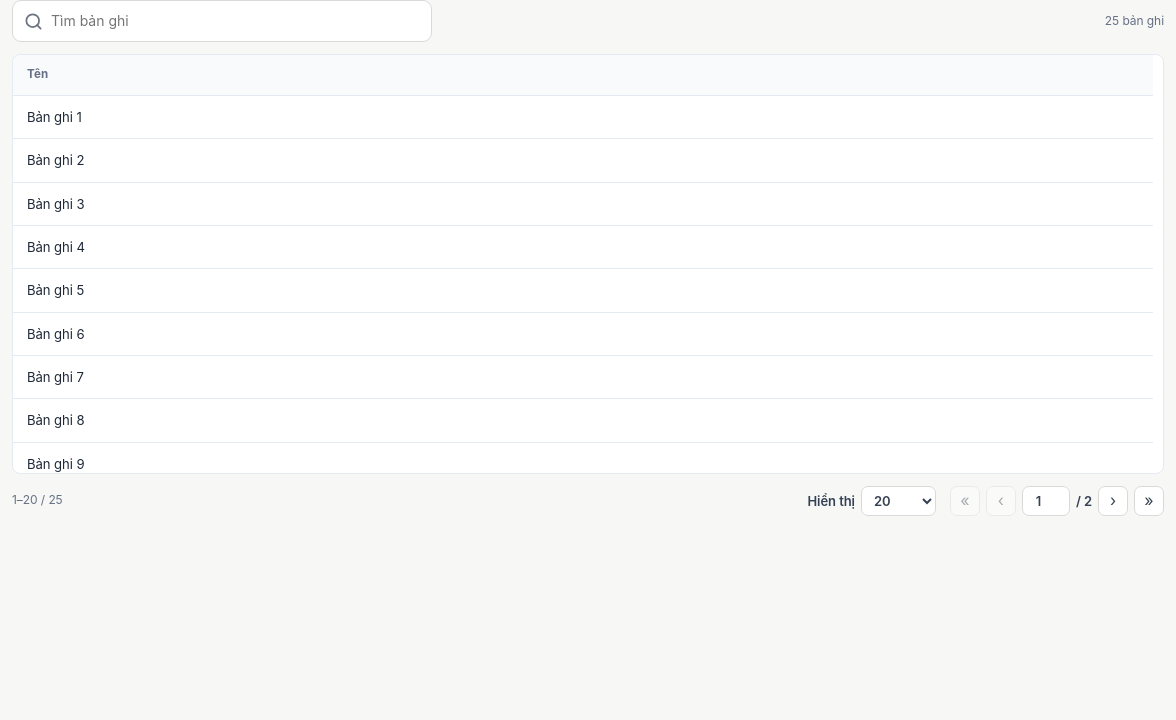
Test: DataTable large collection controls › filters the complete collection and resets to the first result page
The image size is (1176, 720).
Step 1. Type "Bản ghi 25" into the search field labelled "Tìm bản ghi" → (236, 21), box 51,10 -> 420,32
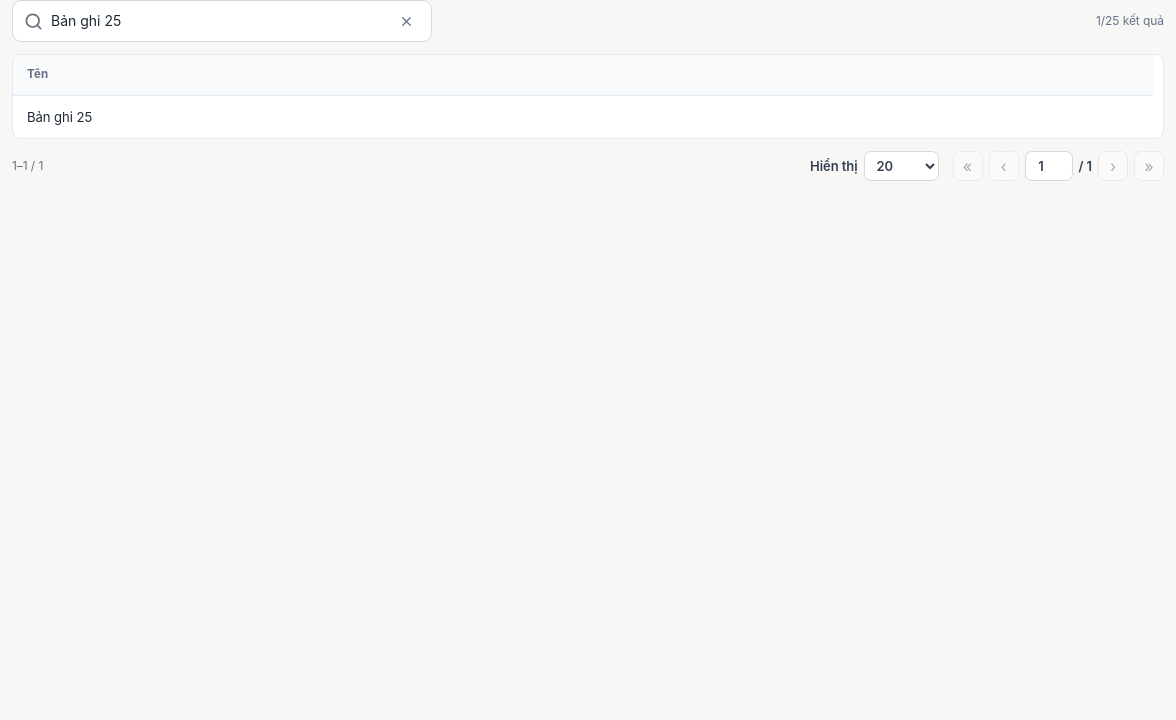
Expected: the text "Bản ghi 25" is shown, 13,95 -> 1153,138
Expected: the text "1/25 kết quả" is shown, 1096,12 -> 1164,30
Expected: the text "Bản ghi 1" is gone
